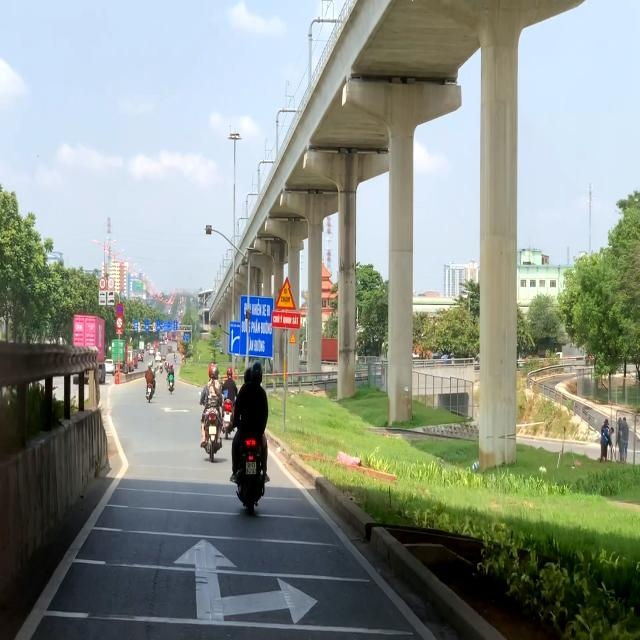bien_chi_dan: (276, 276, 298, 312), (99, 277, 106, 290), (117, 302, 123, 316), (108, 276, 114, 290)
